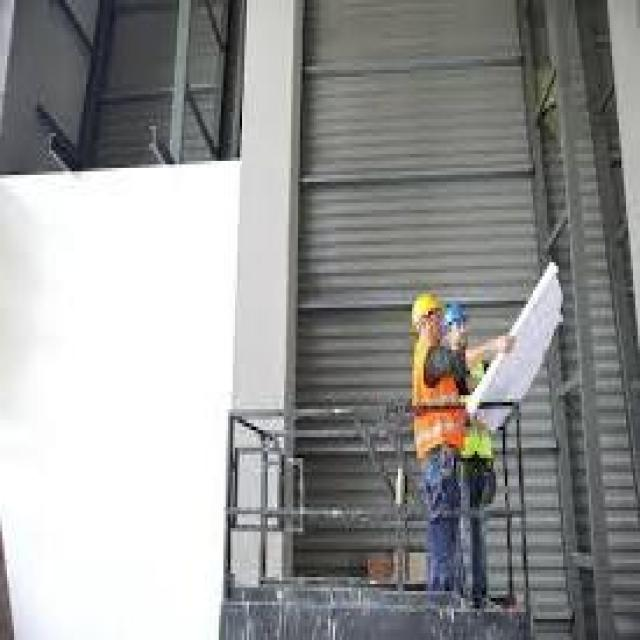Reflective-Jacket: (405, 336, 477, 486)
Safety-Helmet: (405, 283, 449, 336), (440, 294, 472, 336)
